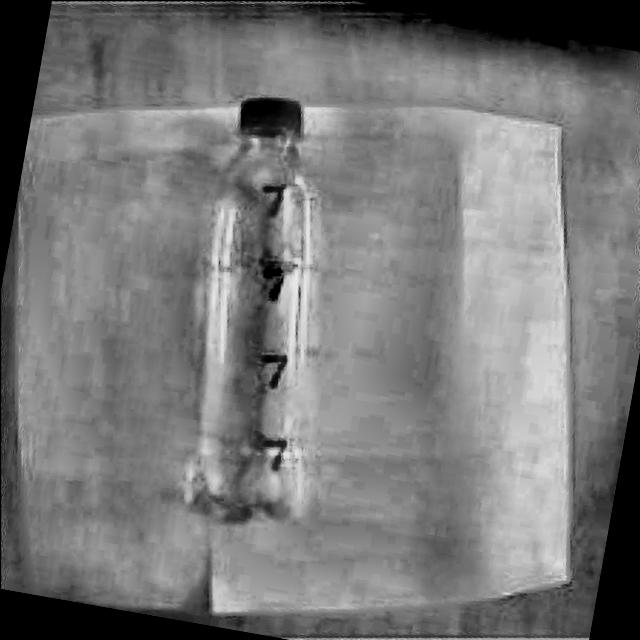plastic bottle: (189, 99, 313, 520)
